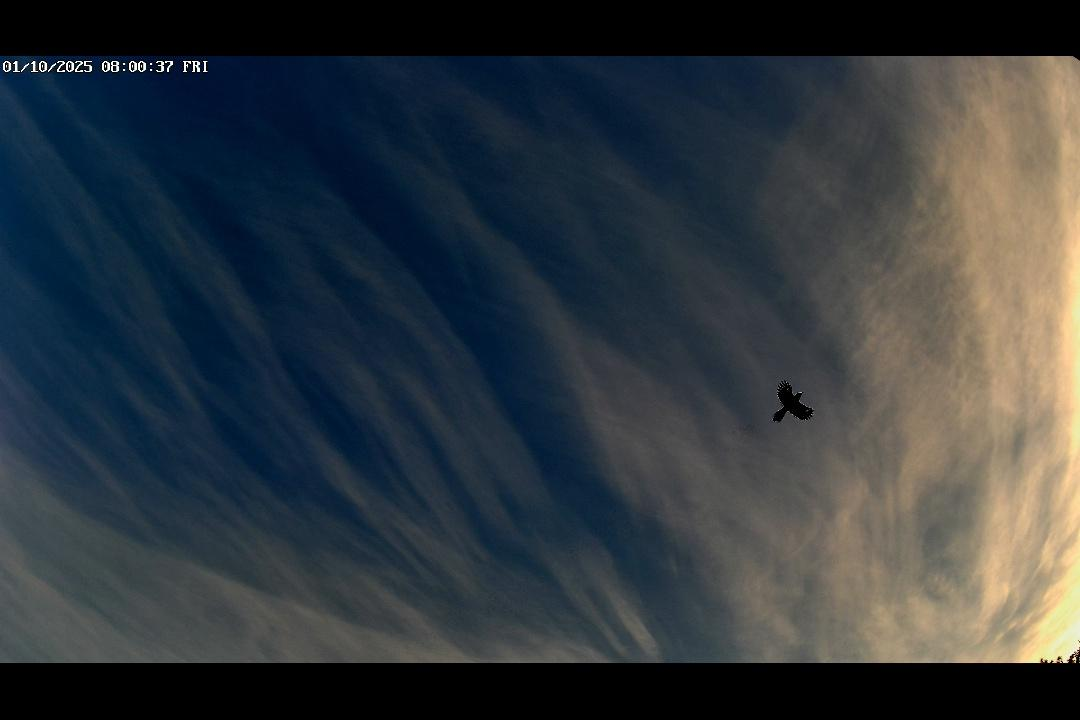WildLife: (762, 376, 824, 440)
